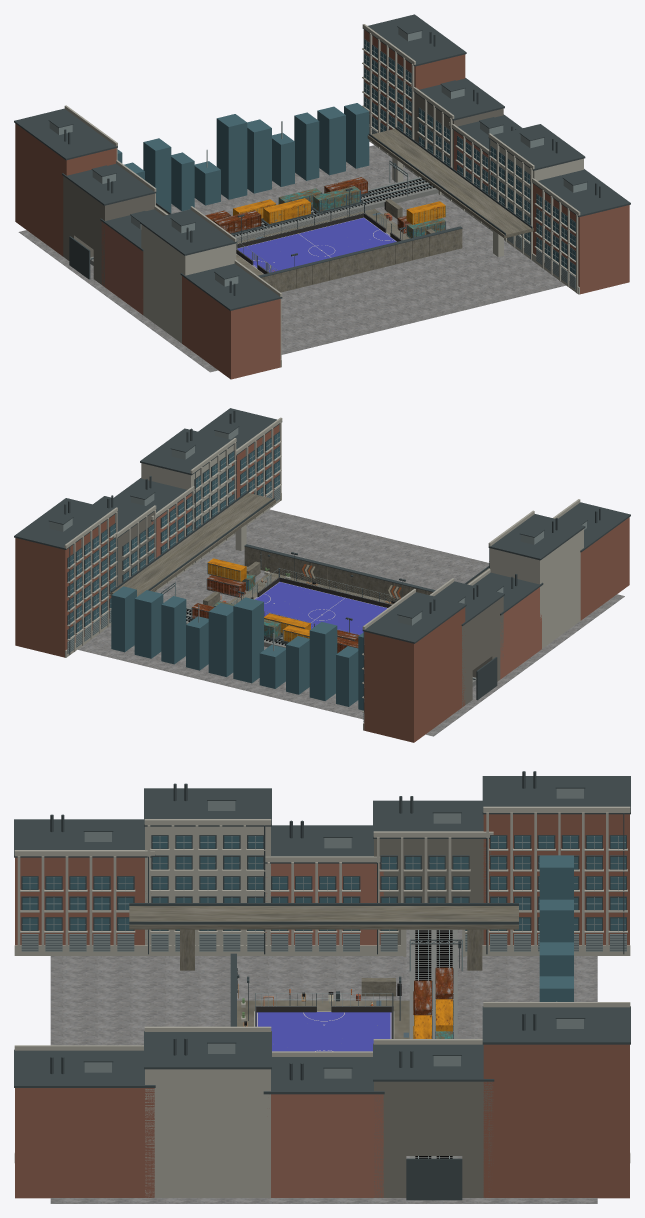
File: the-gulch.glb
3 views of the same model, one above another, from view 1: azimuth 30°, elevation 25°; view 2: azimuth 150°, elevation 25°; view 3: azimuth 270°, elevation 25° (orthographic). The views are drawn at different scales.
Parts seen in each view (by area): view 1: HORIZON_BUILDINGS_WEST, HORIZON_BUILDINGS_EAST, ENVIRONMENT_ARCHITECTURE, DISTANT_SKYLINE, RETAINING_WALL, COURT_SURFACE, RAILWAY_INFRASTRUCTURE, PARKED_BOXCARS, ANIMATED_ENVIRONMENT, RAIL_UNDERPASSES, REBOUND_NORTH; view 2: HORIZON_BUILDINGS_WEST, HORIZON_BUILDINGS_EAST, ENVIRONMENT_ARCHITECTURE, DISTANT_SKYLINE, RETAINING_WALL, COURT_SURFACE, ANIMATED_ENVIRONMENT, RAIL_UNDERPASSES, PARKED_BOXCARS, REBOUND_SOUTH; view 3: HORIZON_BUILDINGS_EAST, HORIZON_BUILDINGS_WEST, ENVIRONMENT_ARCHITECTURE, DISTANT_SKYLINE, COURT_SURFACE, RAILWAY_INFRASTRUCTURE, RAIL_UNDERPASSES, ANIMATED_ENVIRONMENT, PARKED_BOXCARS, REBOUND_WEST, FENCE_WEST.
Boxes of the visible parts, x1,y1,x2,y2 form: HORIZON_BUILDINGS_WEST: (14, 105, 282, 379); HORIZON_BUILDINGS_EAST: (362, 14, 630, 294); ENVIRONMENT_ARCHITECTURE: (18, 127, 565, 372); DISTANT_SKYLINE: (117, 103, 369, 213); RETAINING_WALL: (258, 226, 462, 292); COURT_SURFACE: (236, 218, 396, 273); RAILWAY_INFRASTRUCTURE: (90, 160, 438, 265); PARKED_BOXCARS: (213, 186, 362, 234); ANIMATED_ENVIRONMENT: (205, 177, 369, 220); RAIL_UNDERPASSES: (69, 175, 441, 279); REBOUND_NORTH: (236, 213, 363, 248); HORIZON_BUILDINGS_WEST: (362, 499, 630, 742); HORIZON_BUILDINGS_EAST: (14, 408, 282, 657); ENVIRONMENT_ARCHITECTURE: (78, 491, 624, 736); DISTANT_SKYLINE: (111, 586, 363, 710); RETAINING_WALL: (244, 544, 435, 602); COURT_SURFACE: (254, 581, 387, 634); ANIMATED_ENVIRONMENT: (189, 603, 358, 653); RAIL_UNDERPASSES: (476, 657, 497, 700); PARKED_BOXCARS: (213, 601, 359, 641); REBOUND_SOUTH: (279, 577, 391, 607); HORIZON_BUILDINGS_EAST: (14, 1002, 630, 1198); HORIZON_BUILDINGS_WEST: (14, 771, 630, 955); ENVIRONMENT_ARCHITECTURE: (50, 903, 597, 1203); DISTANT_SKYLINE: (539, 855, 573, 1001); COURT_SURFACE: (254, 1011, 394, 1051); RAILWAY_INFRASTRUCTURE: (409, 929, 462, 1158); RAIL_UNDERPASSES: (403, 929, 465, 1200); ANIMATED_ENVIRONMENT: (435, 967, 453, 1038); PARKED_BOXCARS: (413, 980, 432, 1038); REBOUND_WEST: (256, 1006, 392, 1012); FENCE_WEST: (256, 993, 392, 1011).
Bounding box in the file's own units: 100 × 27.93 × 90.2.
32 materials, 8 textured.
